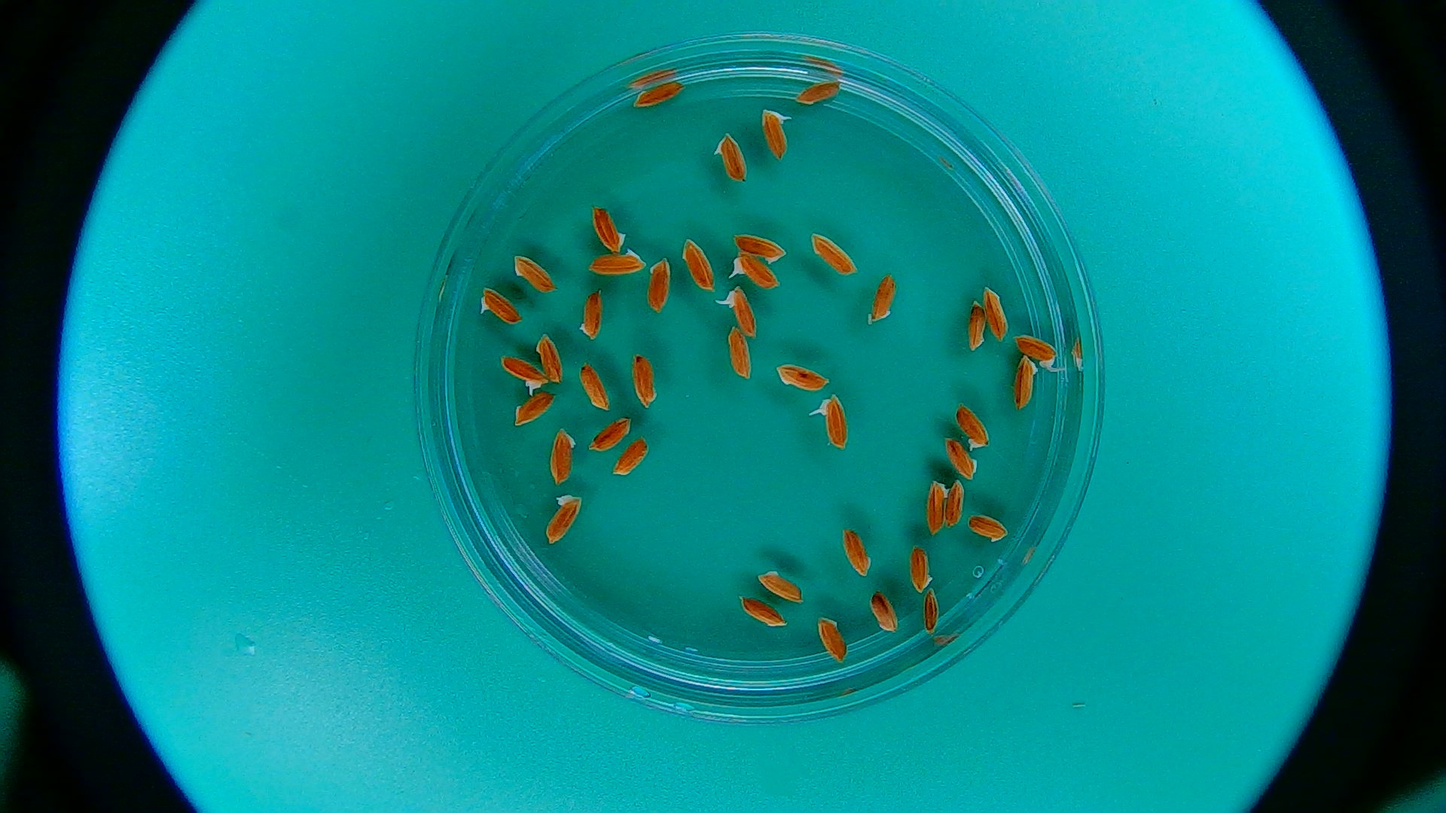no: (734, 231, 792, 266), (544, 494, 582, 546), (811, 233, 856, 276), (511, 252, 557, 294), (679, 236, 713, 292), (775, 361, 834, 393), (477, 285, 523, 326), (840, 523, 874, 577), (712, 130, 747, 181), (866, 271, 898, 326), (550, 426, 578, 487), (590, 205, 627, 251), (955, 403, 991, 449), (815, 614, 849, 662), (725, 324, 753, 382), (632, 352, 659, 410), (578, 360, 609, 410), (757, 568, 806, 599), (590, 415, 632, 451), (512, 393, 558, 425), (647, 257, 672, 314), (1014, 355, 1039, 412), (966, 511, 1009, 544), (633, 79, 683, 107), (590, 249, 646, 274), (578, 288, 603, 342), (537, 333, 565, 381), (738, 598, 786, 626), (795, 78, 844, 105), (944, 439, 977, 479), (616, 439, 649, 479), (869, 589, 898, 633), (908, 544, 933, 592), (924, 480, 946, 534), (987, 284, 1008, 339), (945, 479, 965, 531), (968, 299, 984, 353), (924, 588, 939, 635)
yes: (724, 285, 762, 335), (819, 391, 850, 448), (756, 108, 791, 158), (501, 352, 545, 389), (730, 255, 778, 287), (1012, 334, 1058, 367)
